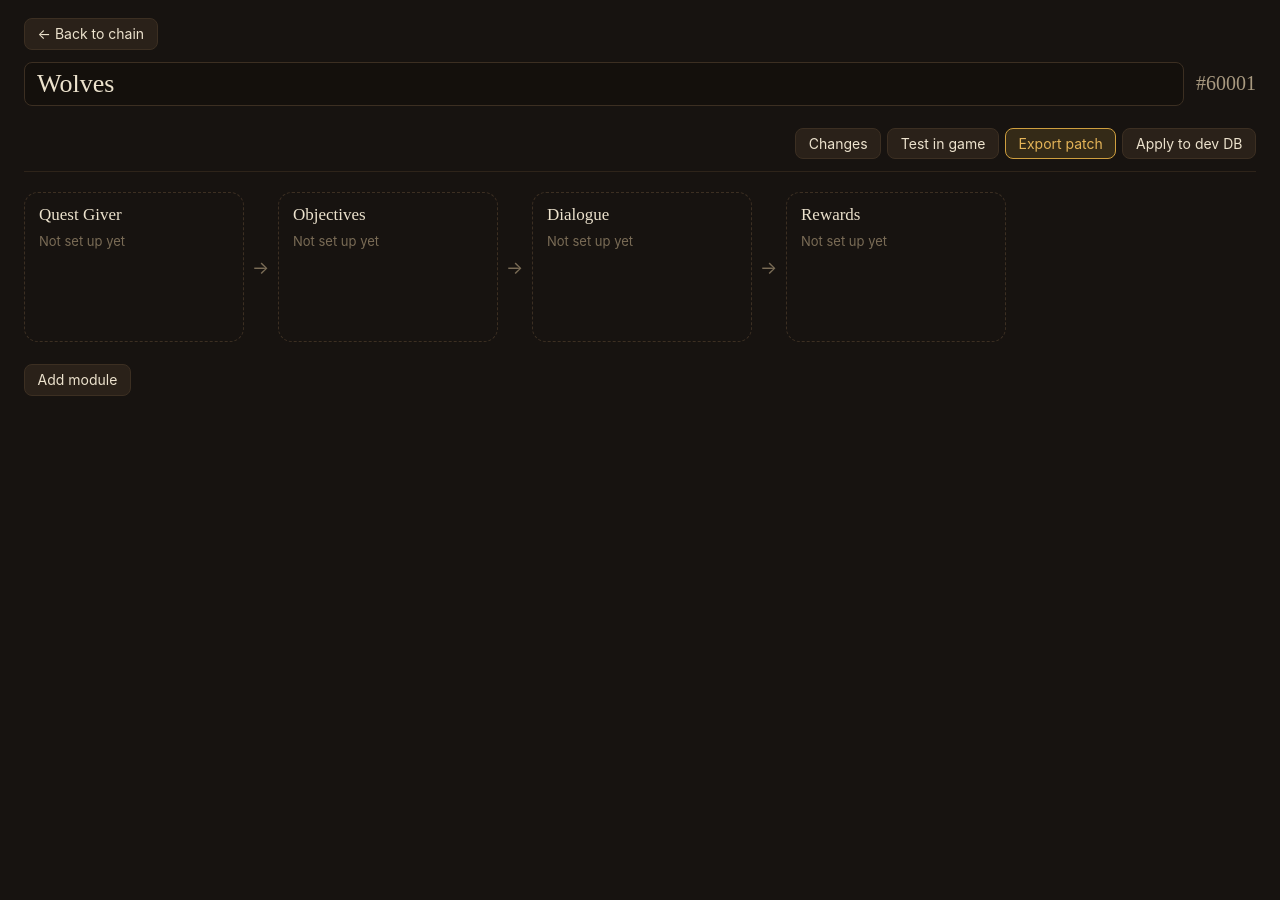
Test: Apply to dev DB › does nothing when cancelled
Click the button "Apply to dev DB": (1189, 143) top-left (1122, 128), bottom-right (1256, 159)
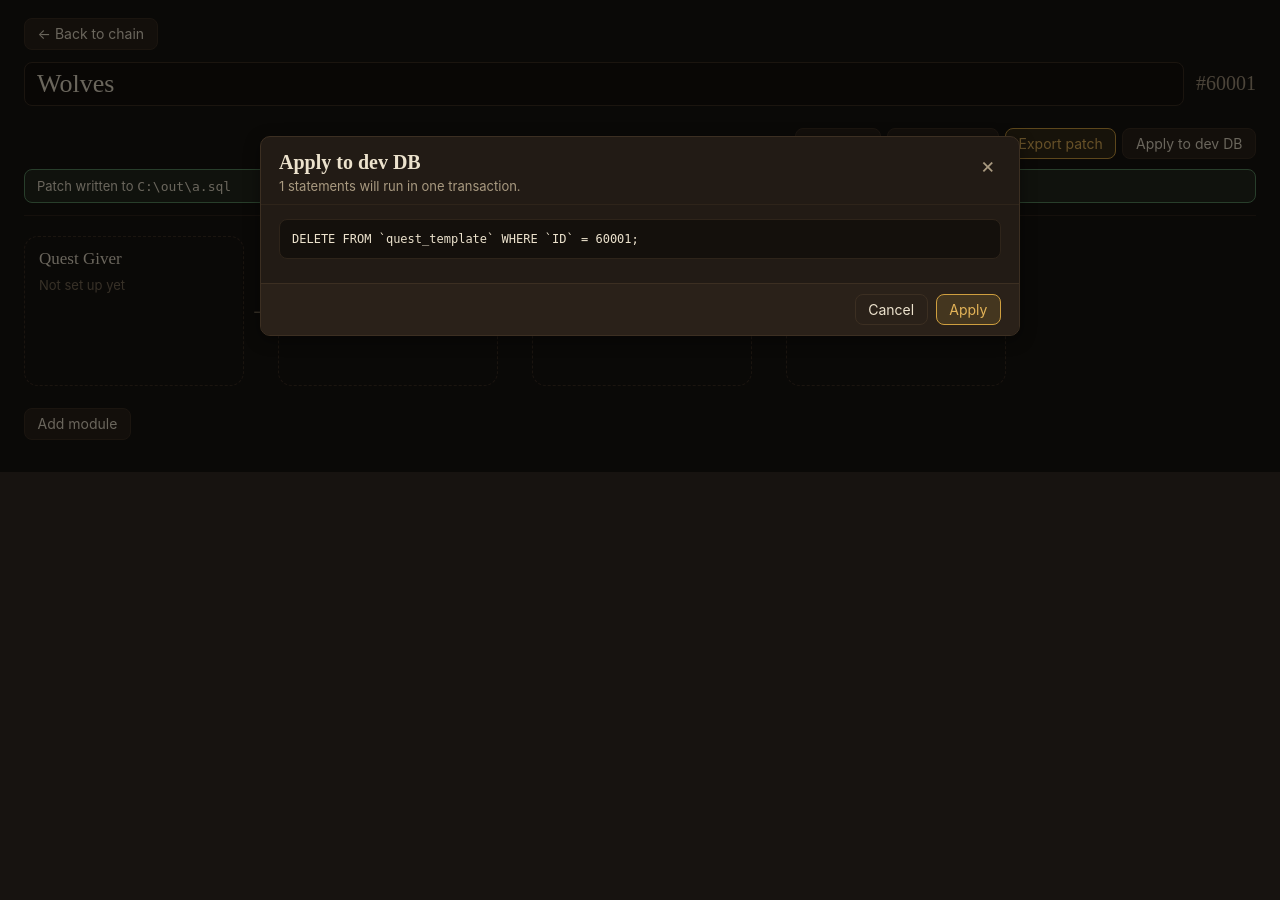
Click the button "Cancel": (891, 309) top-left (855, 294), bottom-right (928, 325)
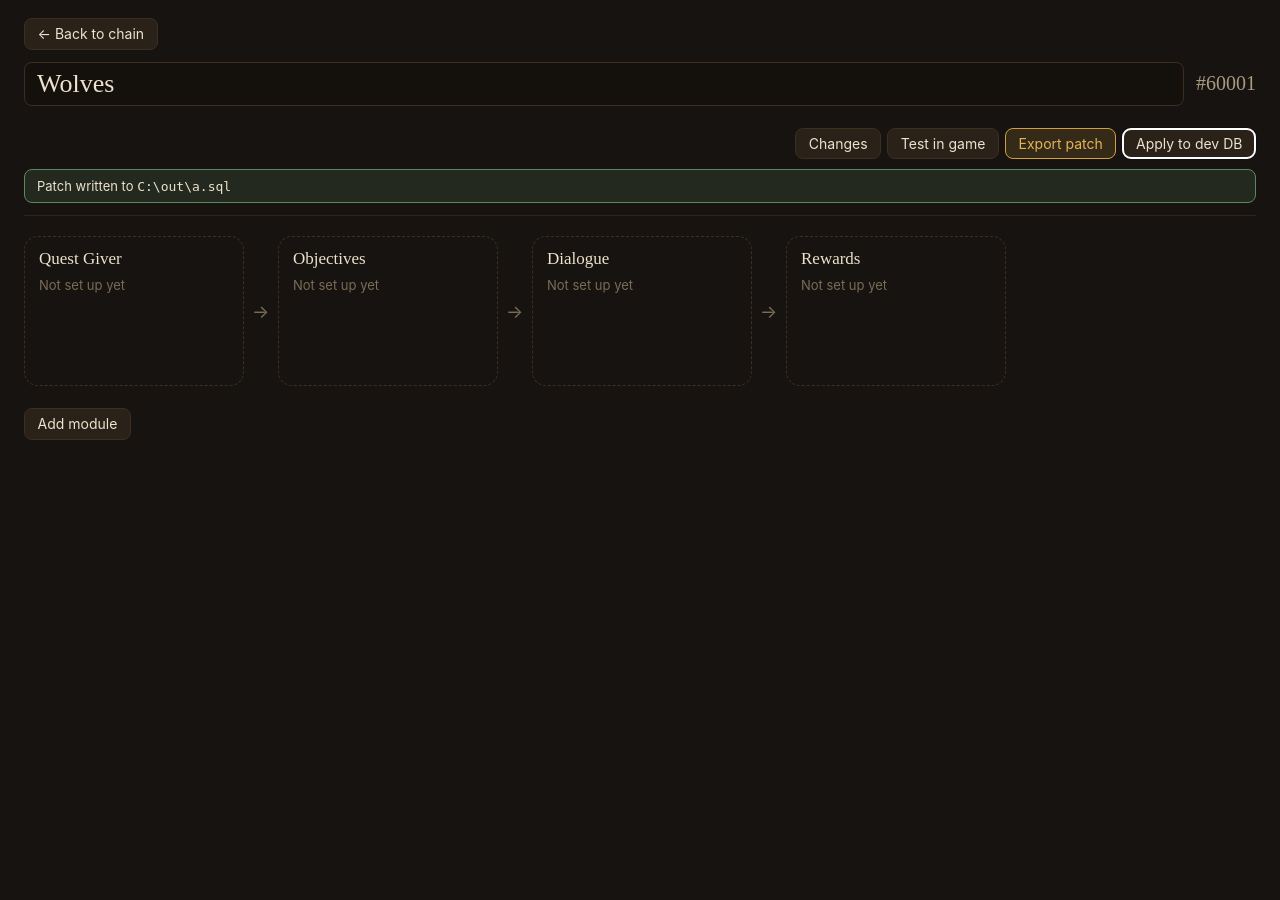
Expected: the dialog is gone
